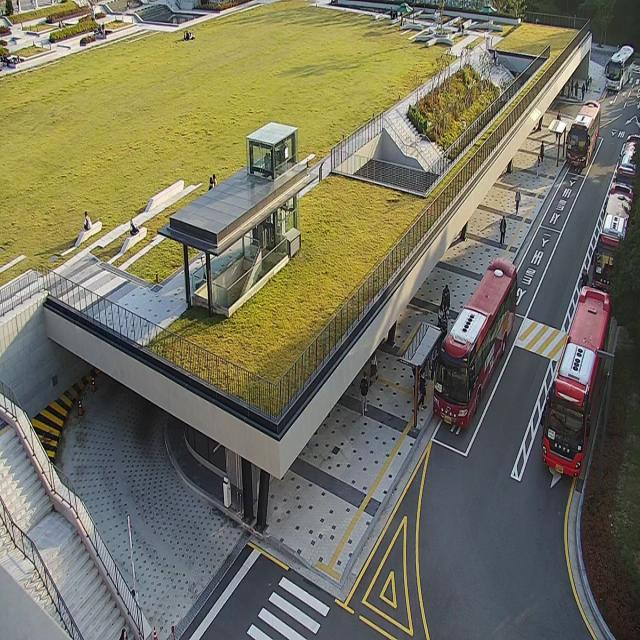queue: (416, 282, 450, 426)
